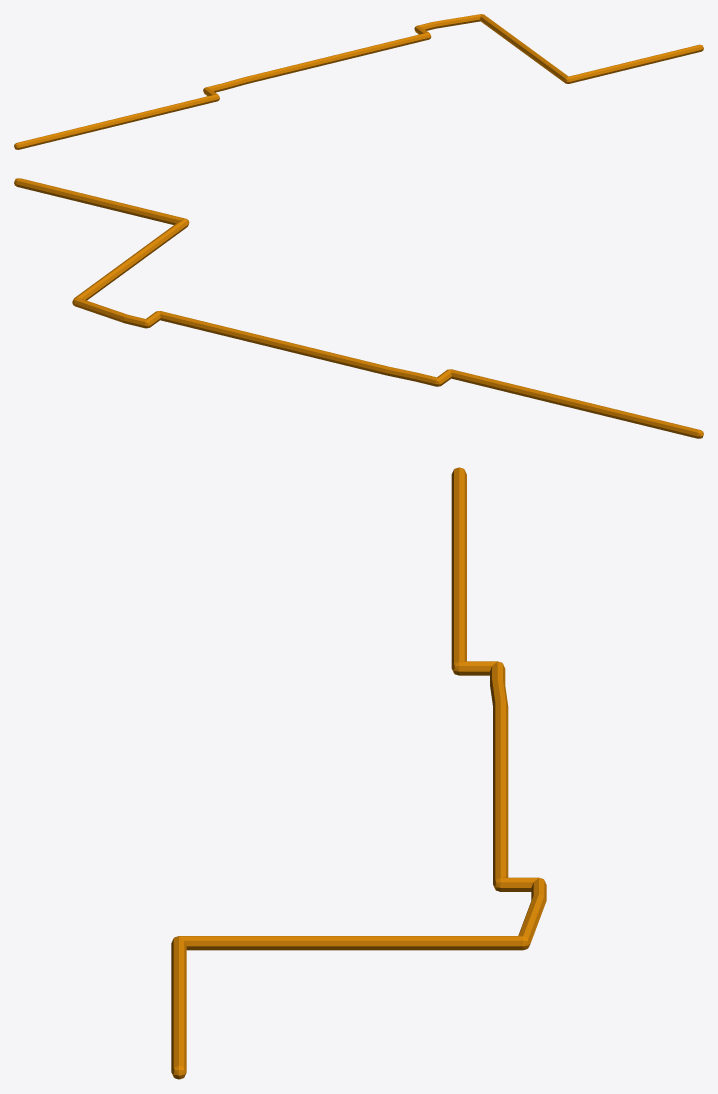
3 views of the same model, one above another, from view 1: azimuth 30°, elevation 25°; view 2: azimuth 150°, elevation 25°; view 3: azimuth 270°, elevation 25° (orthographic). The views are drawn at different scales.
Bounding box in the file's own units: 1870 × 20 × 491.
